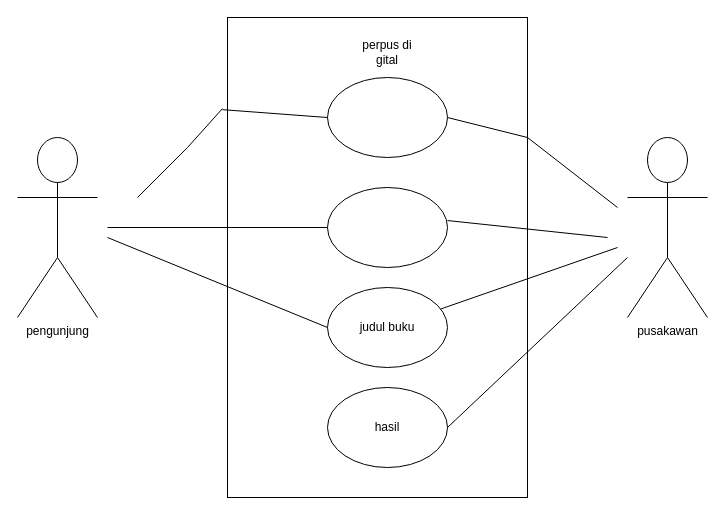
Some shapes in this 725 by 515 pixel diagram are drawn without their labels. Each missing label, with the centre of its shape:
form kunjungan: point 387,117
pencarian buku: point 387,227
